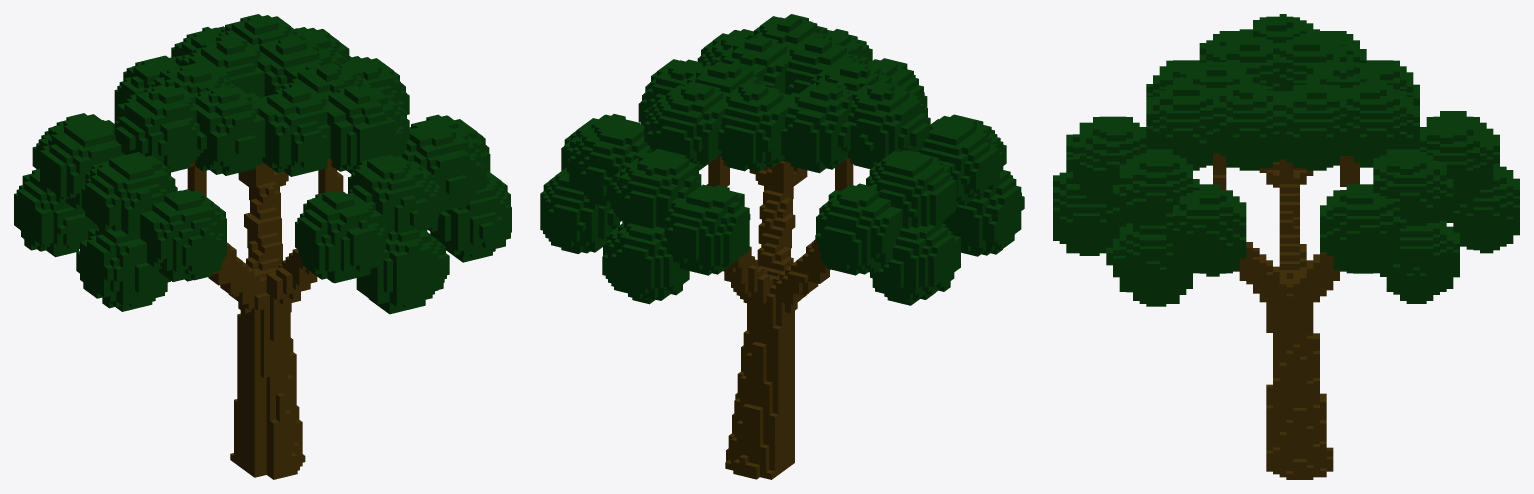
The model's file is Tree4-3-2.obj.
3 views of the same model, side by side, from view 1: azimuth 30°, elevation 25°; view 2: azimuth 150°, elevation 25°; view 3: azimuth 270°, elevation 25° (orthographic). The views are drawn at different scales.
Parts seen in each view (by area): view 1: 2; view 2: 2; view 3: 2.
Boxes of the visible parts, x1,y1,x2,y2 form: 2: (14,14,511,479); 2: (540,14,1024,479); 2: (1053,14,1519,479).
Size of the model in its own units: 12.6 by 13 by 14.
Materials: 1 (1 with a texture image).
